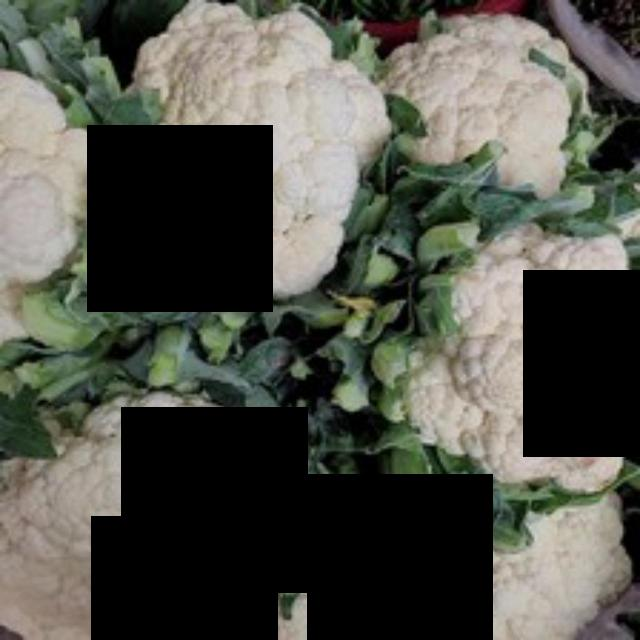cauliflower: (129, 3, 391, 312), (0, 396, 308, 622), (407, 229, 635, 493), (394, 3, 596, 189)
